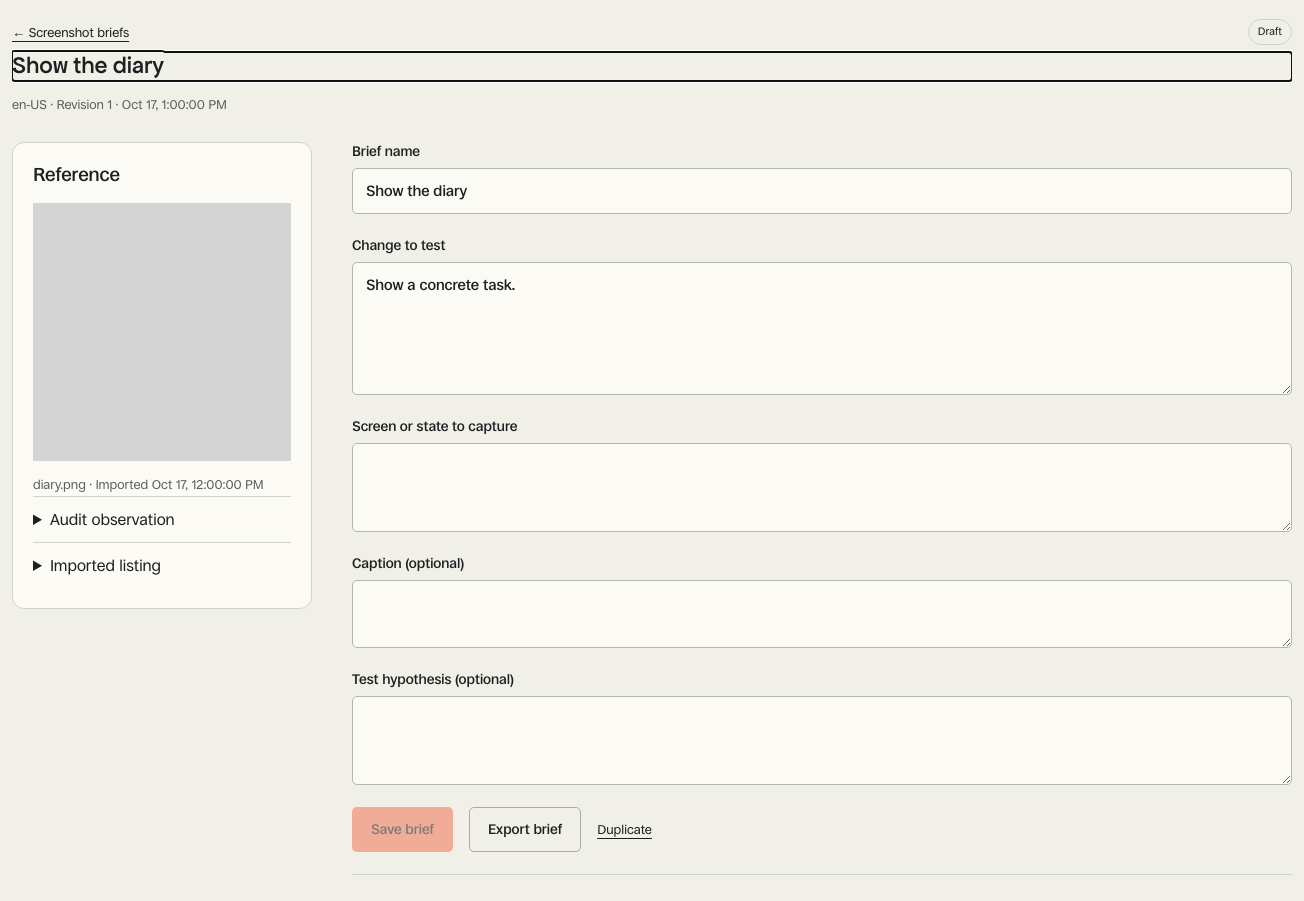
Test: saves a brief while keeping the original image and observations unchanged
This screenshot has width=1304, height=901.
In the text box labelled "Screen or state to capture": [822, 487] box [352, 443, 1292, 532], type "Open the diary with a recorded run."
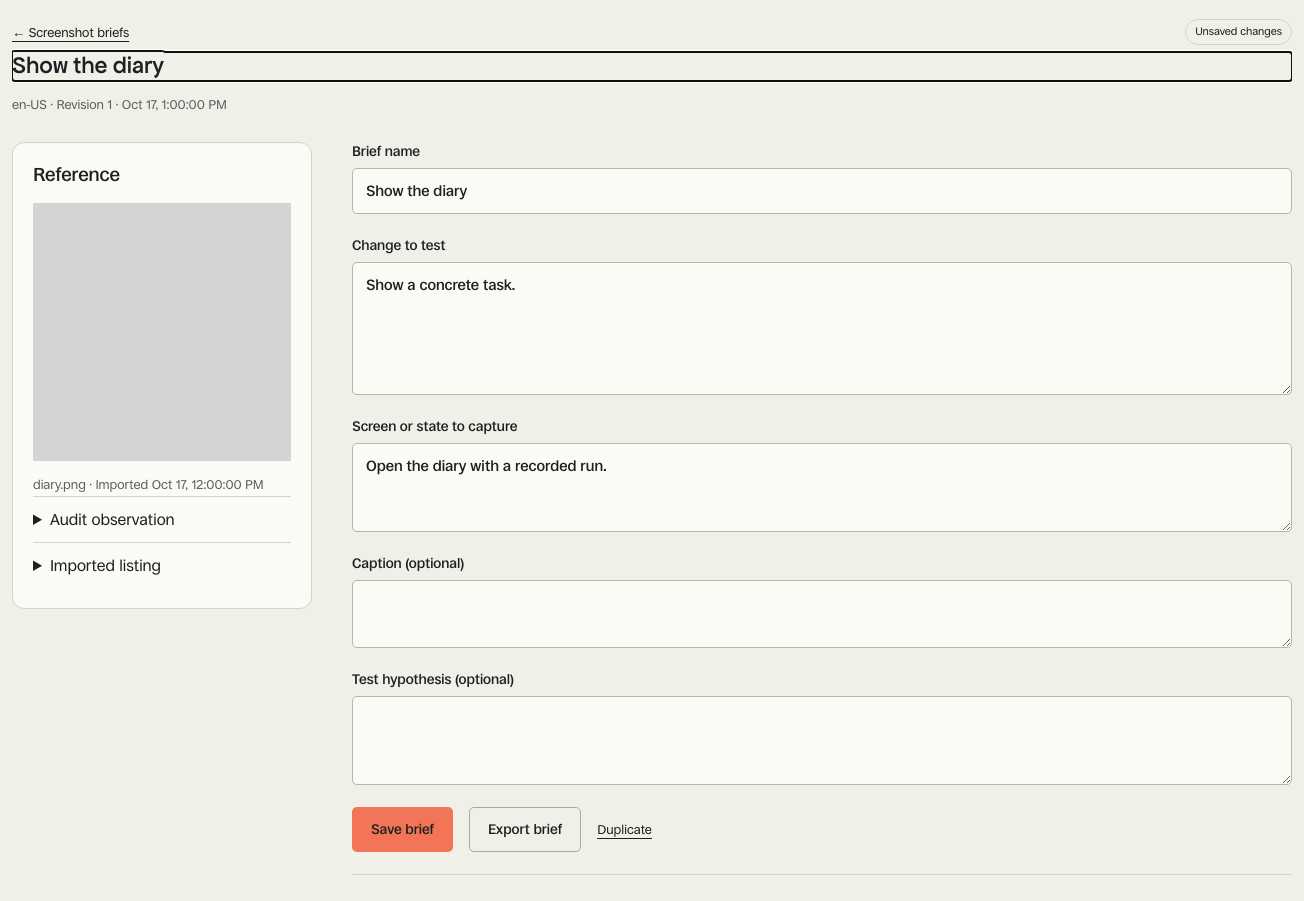
In the text box labelled "Caption (optional)": [822, 614] box [352, 580, 1292, 648], type "See every run"
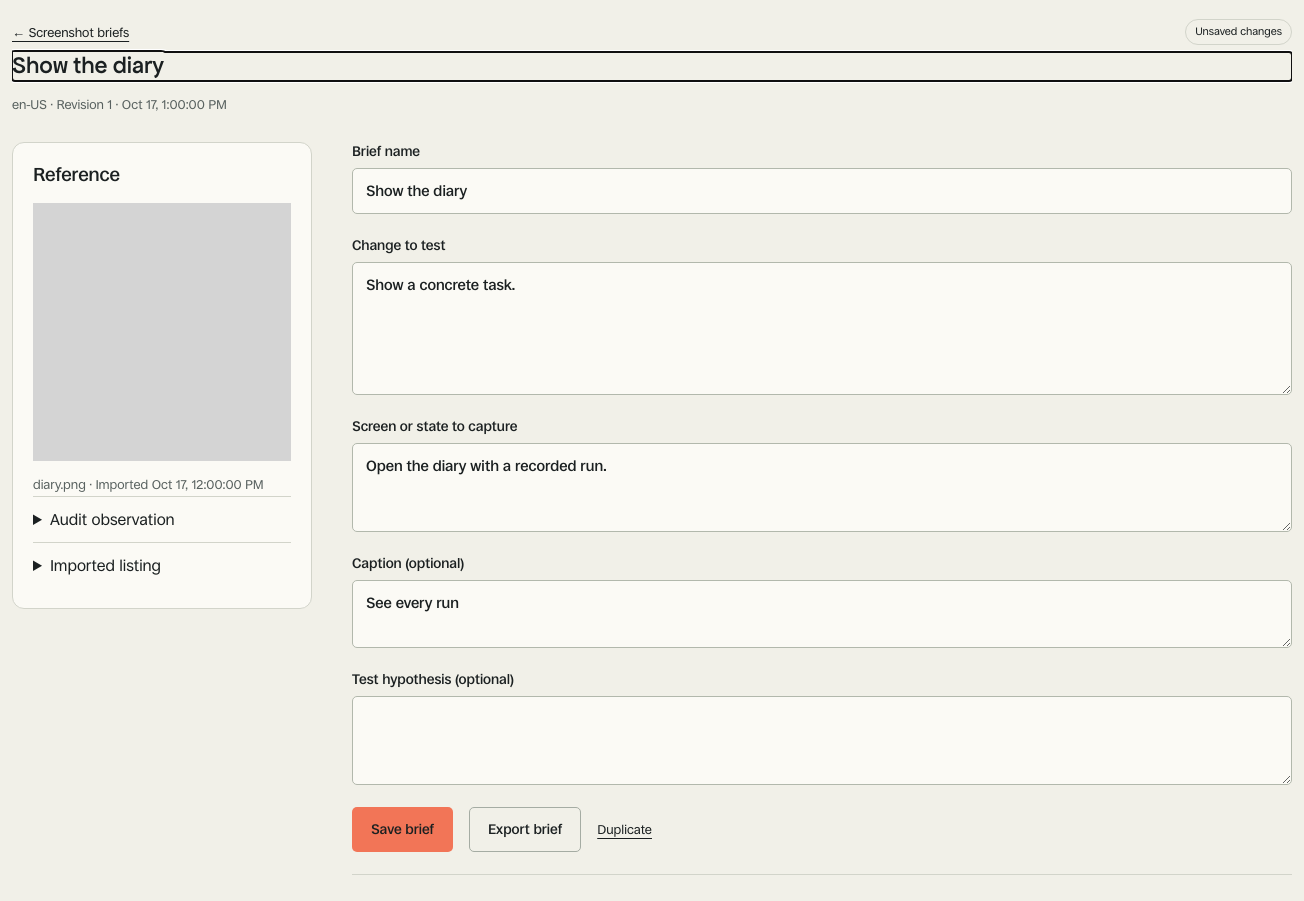
Expected: the text "Unsaved changes" is shown, [1185, 19, 1292, 45]
Click the button "Save brief": [402, 829] box [352, 807, 453, 852]
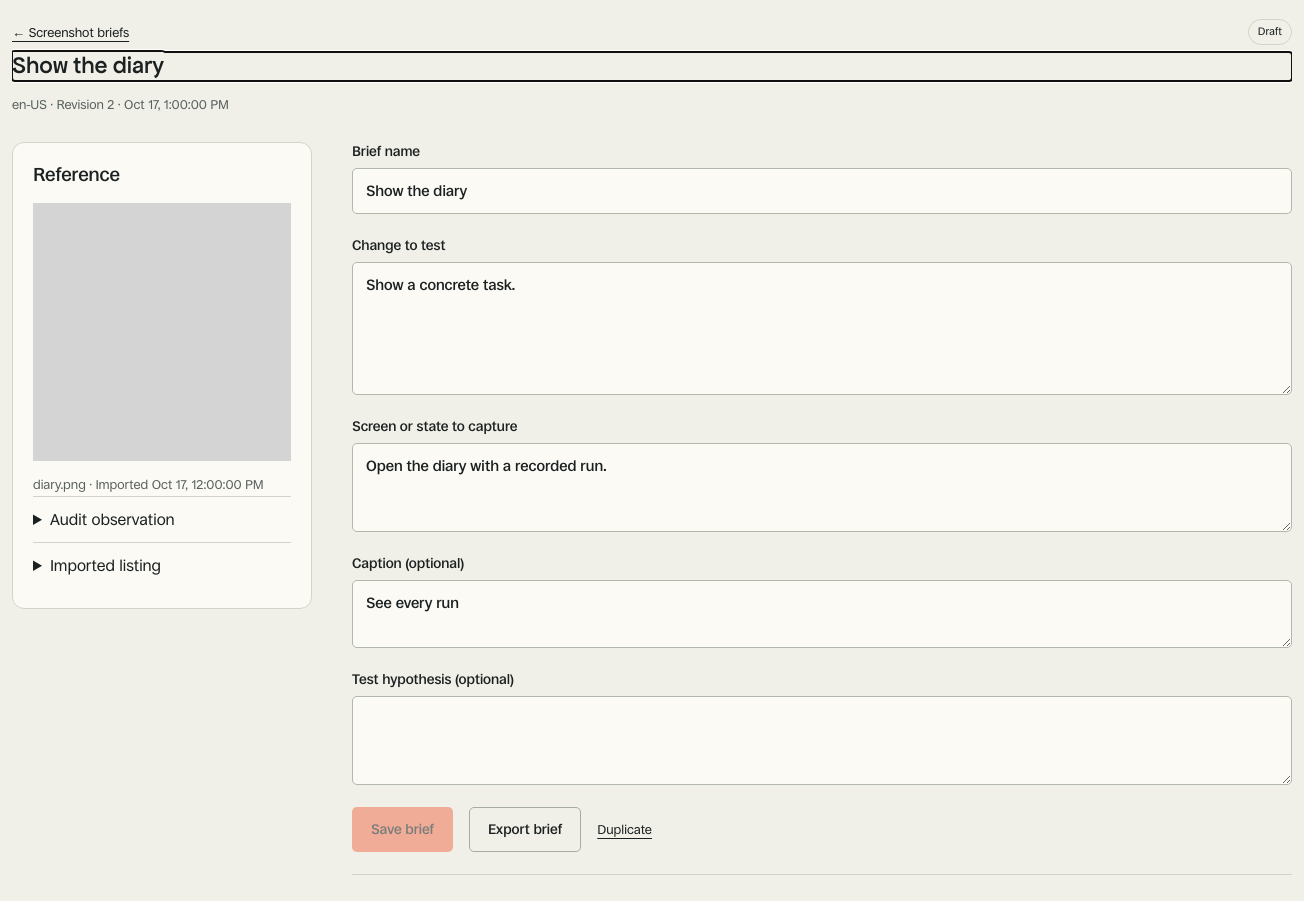
Expected: the text "Unsaved changes" is gone
